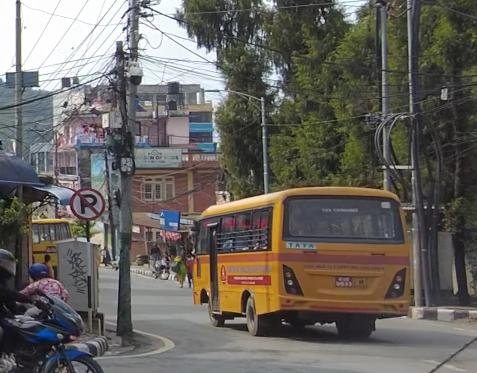bike: (0, 290, 110, 373)
school_bus: (188, 184, 415, 346)
